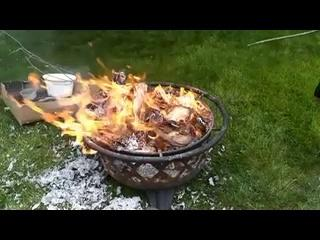Fire: (35, 76, 197, 139)
